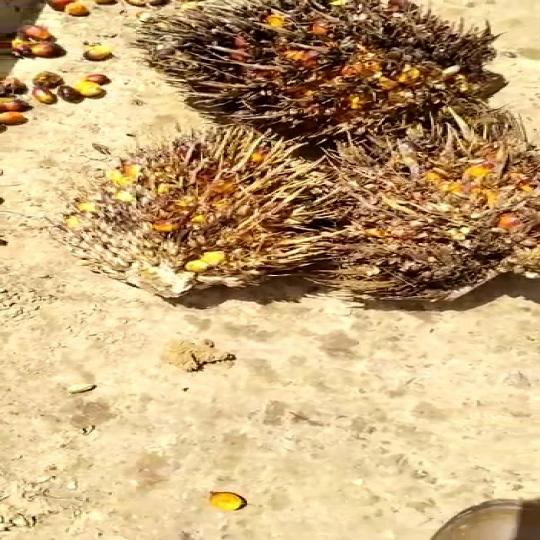terlalu masak: (52, 119, 347, 310), (131, 0, 508, 139), (316, 115, 540, 321)
